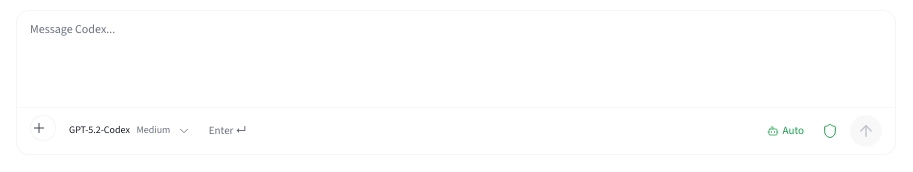
ChatInputArea › add menu › opens add menu when plus button is clicked
Click the button named "Add" at (43, 128), box [30,115,56,141]
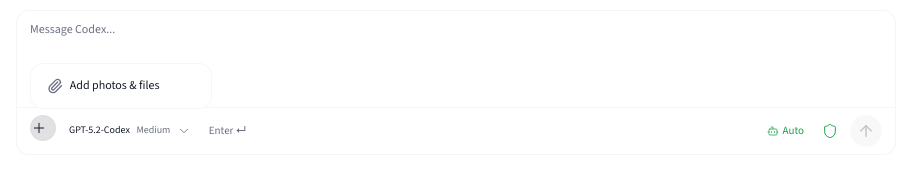
Expected: the button "Add photos & files" is shown, [38,71,204,101]
